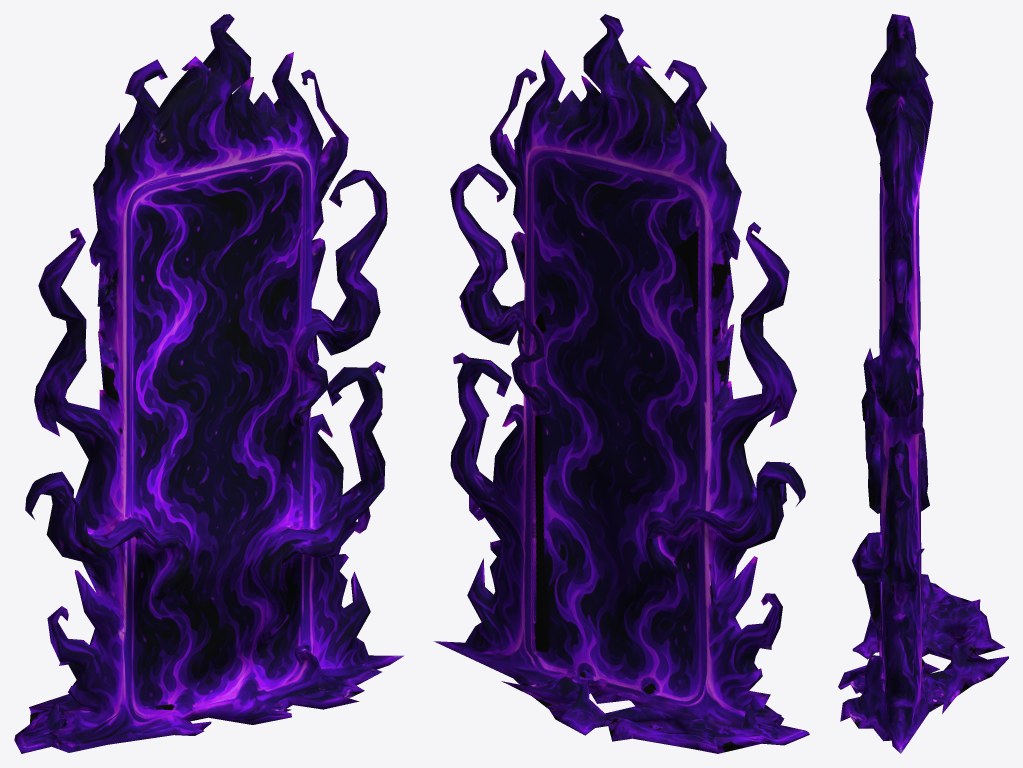
Rendered from Dark.glb.
3 renders of one model, left to right at view 1: azimuth 30°, elevation 25°; view 2: azimuth 150°, elevation 25°; view 3: azimuth 270°, elevation 25°, orthographic. The views are drawn at different scales.
Parts seen in each view (by area): view 1: Mesh1.0; view 2: Mesh1.0; view 3: Mesh1.0.
Part boxes in pixels (x1,y1,x2,y2): Mesh1.0: (14,14,404,753); Mesh1.0: (433,14,809,753); Mesh1.0: (838,14,1008,753).
Bounding box in the file's own units: 1.13 × 1.93 × 0.4559.
Materials: 1 (1 with a texture image).
